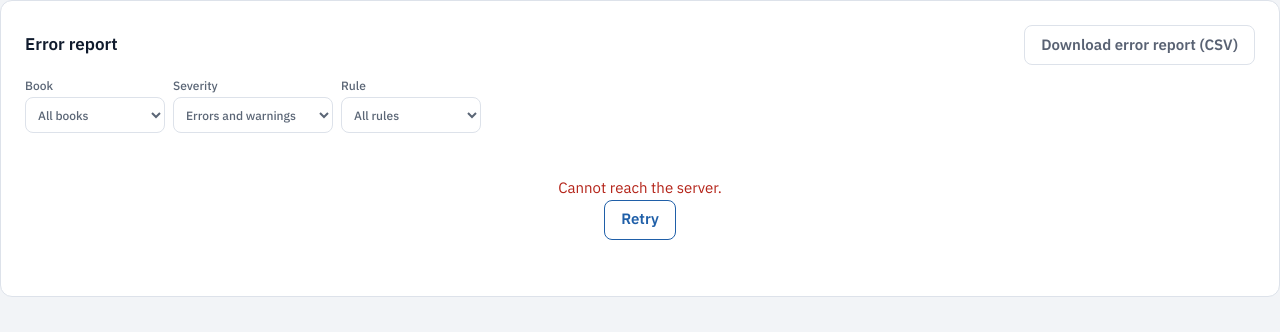
Test: shows an error state and retries
Check: the message shows "Cannot reach the server.", box [558,178,722,197]
Step 1. Click the button "Retry" → (640, 220), box [604,200,676,240]
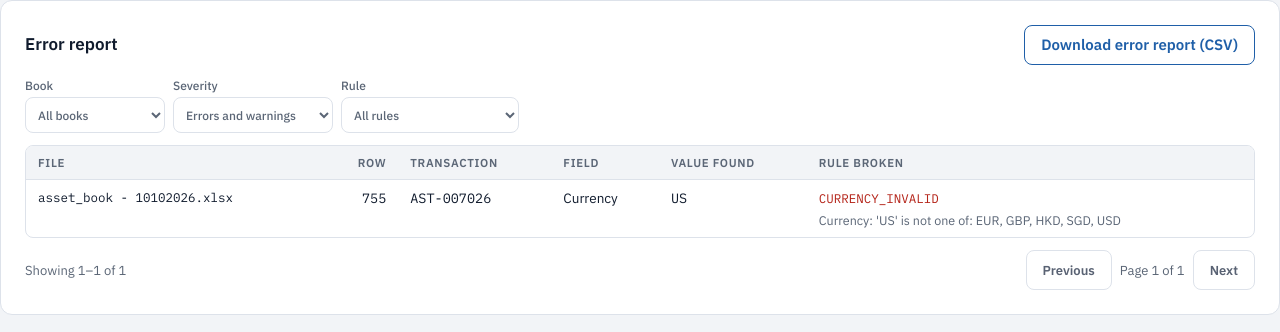
Check: the table is shown, box [26,146,1254,237]
